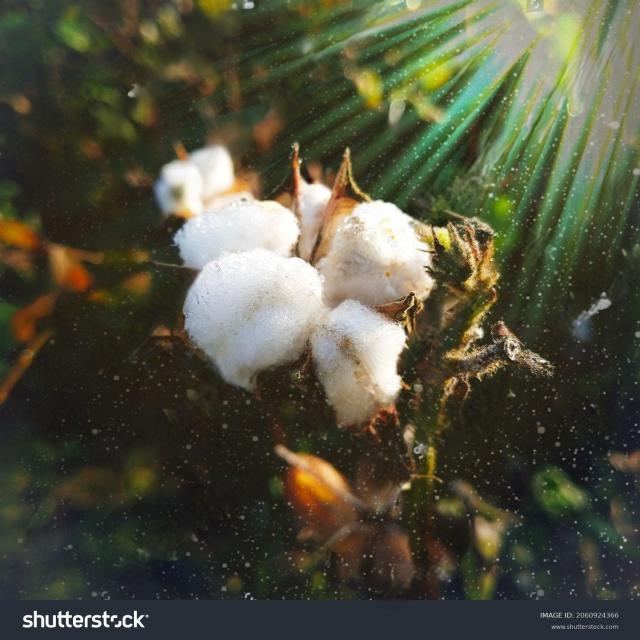Leaf: (152, 114, 520, 453)
